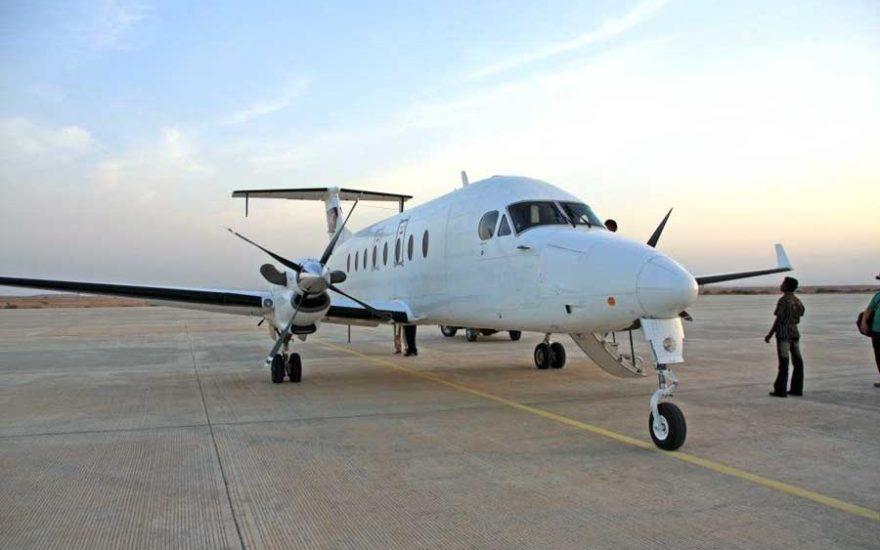Aeronef_commercial: (1, 136, 809, 459)
